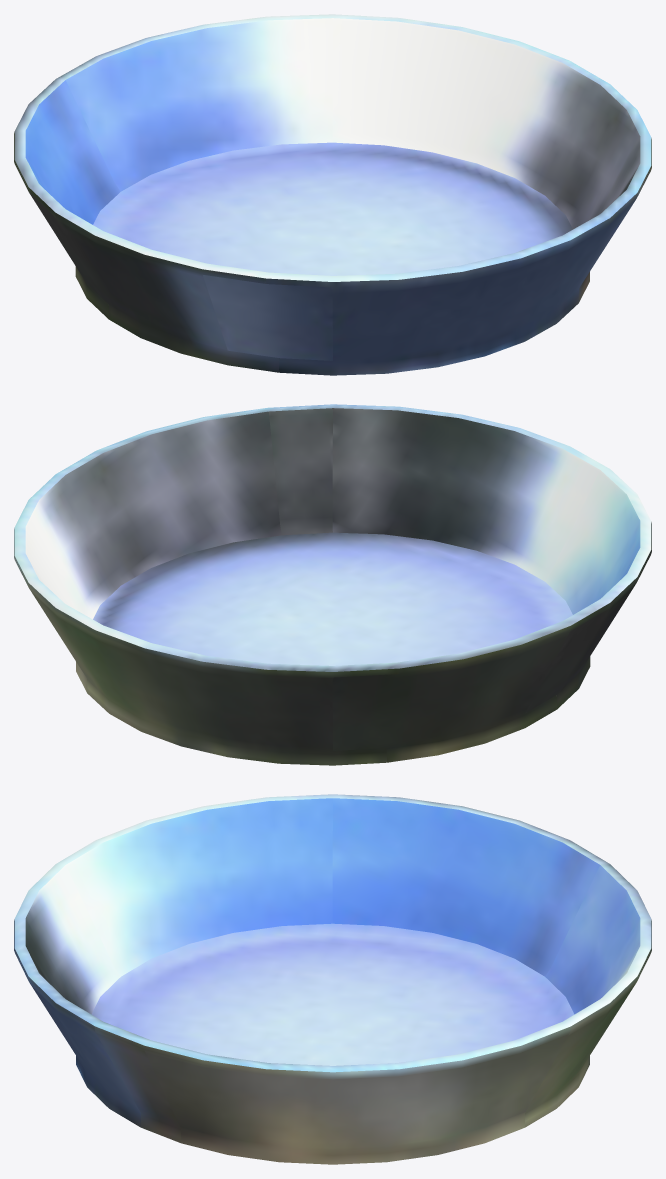
The model's file is scales_container.glb.
3 renders of one model, top to bottom at view 1: azimuth 30°, elevation 25°; view 2: azimuth 150°, elevation 25°; view 3: azimuth 270°, elevation 25°, orthographic.
Parts seen in each view (by area): view 1: scales_container; view 2: scales_container; view 3: scales_container.
Part boxes in pixels (x1,y1,x2,y2): scales_container: [14, 14, 651, 375]; scales_container: [14, 404, 651, 765]; scales_container: [14, 794, 651, 1164].
Size of the model in its own units: 0.0546 by 0.012 by 0.0544.
Materials: 1 (1 with a texture image).
